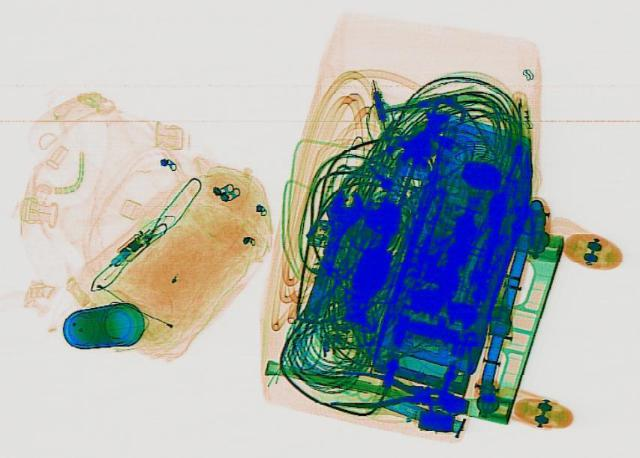Pliers: (324, 367, 446, 414)
Wrench: (290, 188, 368, 320)
